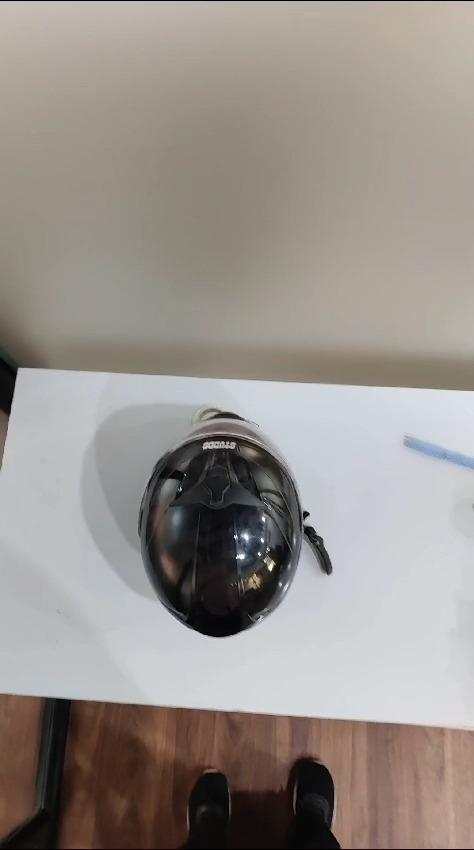Helmet: (139, 407, 331, 635)
